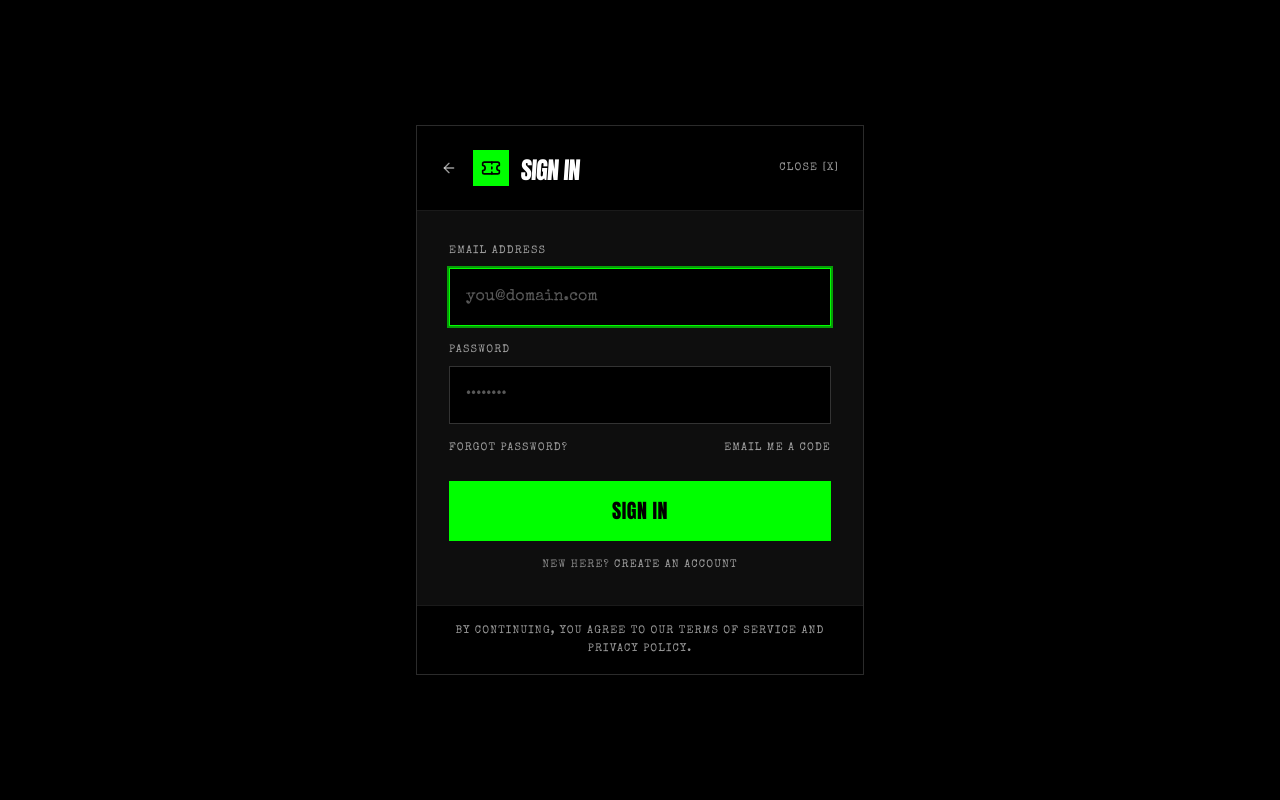
Test: AuthModal: sign in › offers to resend the confirmation when the email is unconfirmed
Type "fan@example.com" into the field labelled "Email Address".
click(640, 297); type("fan@example.com")  # box top-left (449, 268), bottom-right (831, 326)
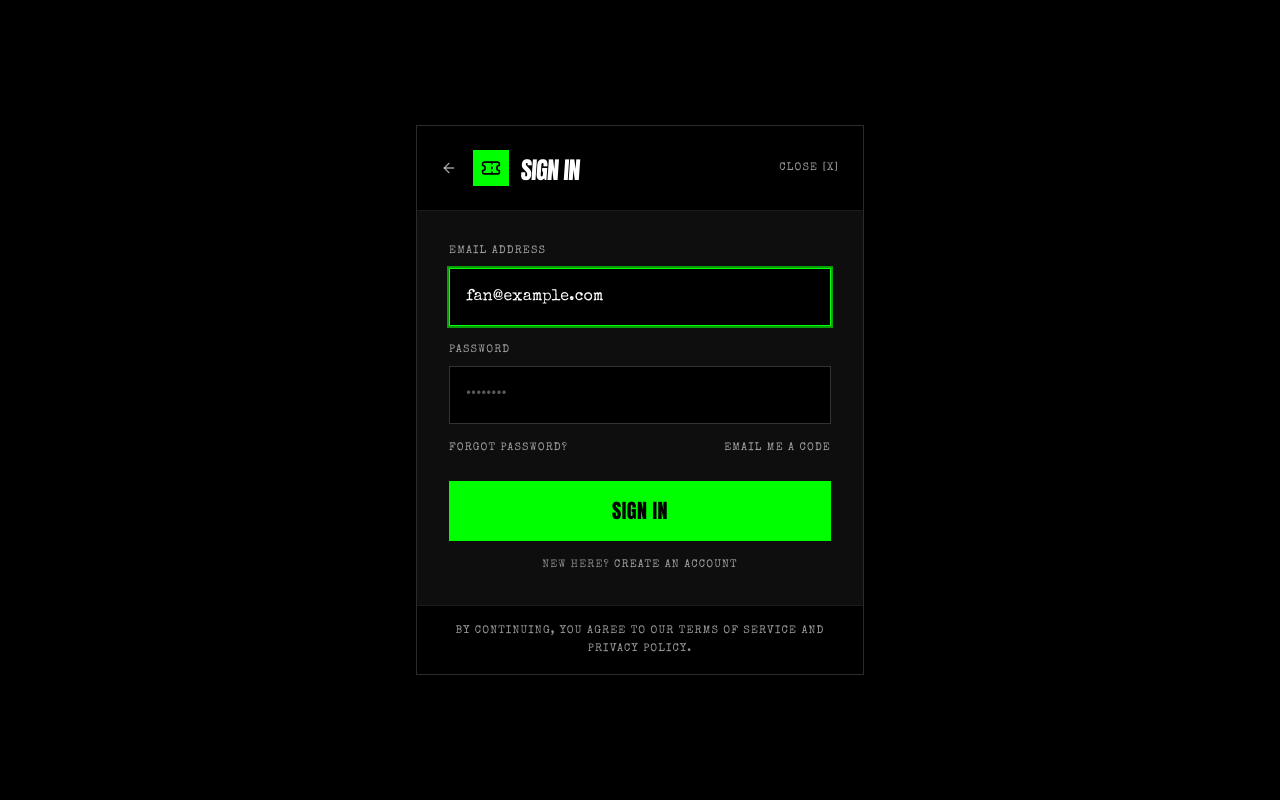
Type "whatever1" into the password field labelled "Password".
click(640, 395); type("whatever1")  # box top-left (449, 366), bottom-right (831, 424)
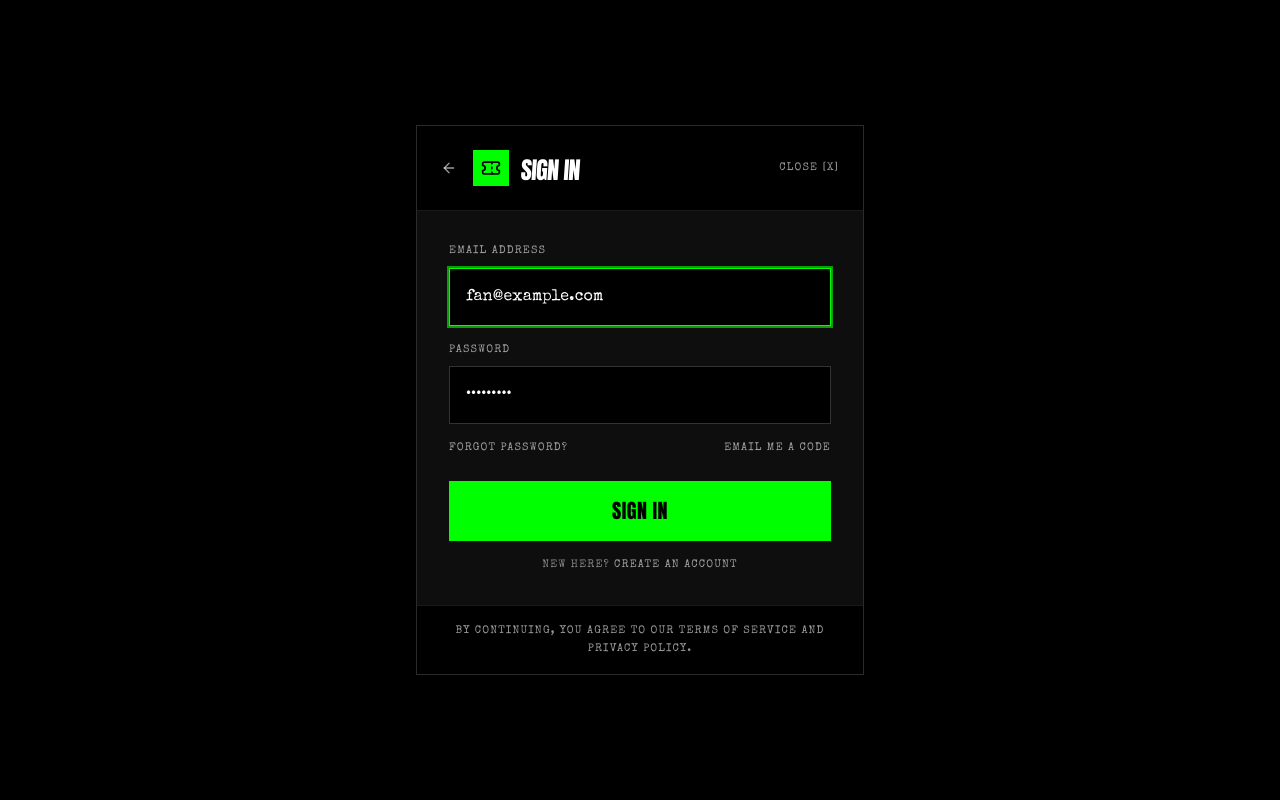
Click the button "Sign In".
click(640, 511)  # box top-left (449, 481), bottom-right (831, 541)
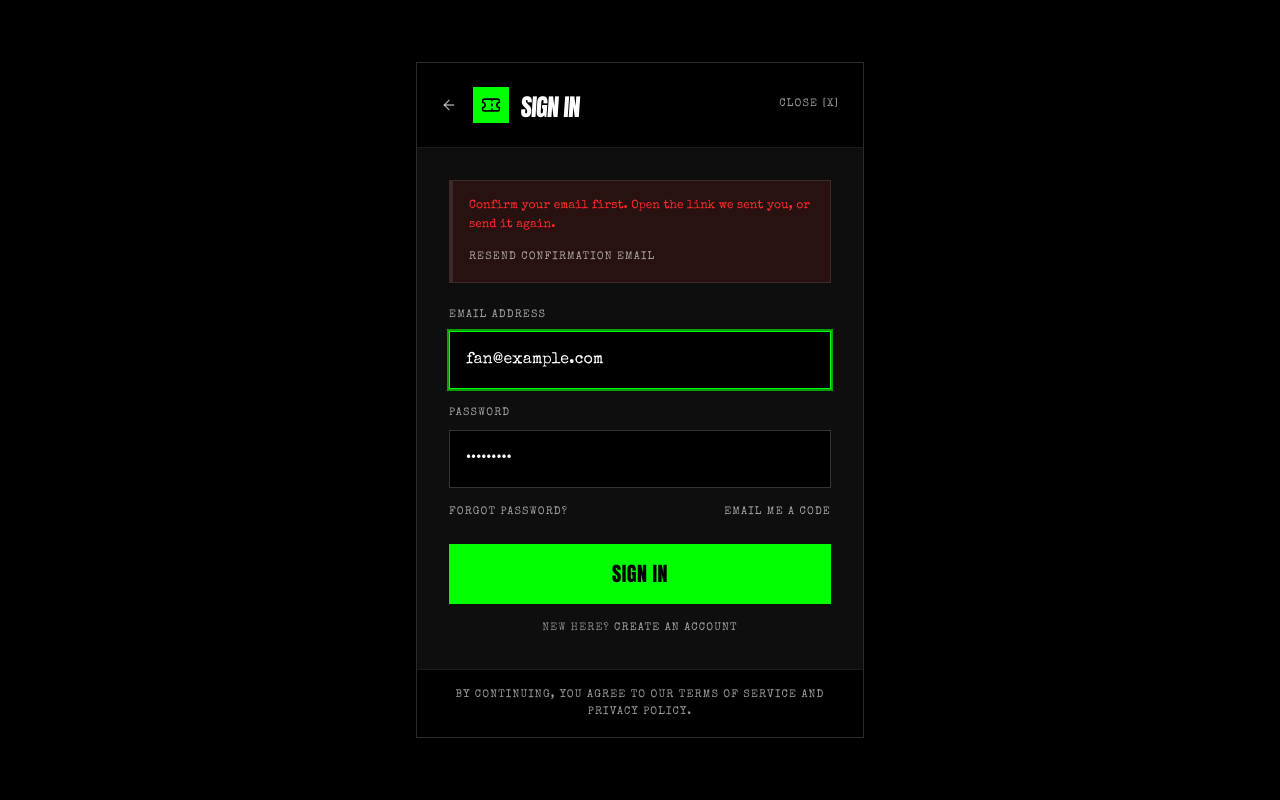
Click the button "Resend confirmation email".
click(562, 257)  # box top-left (469, 248), bottom-right (655, 266)
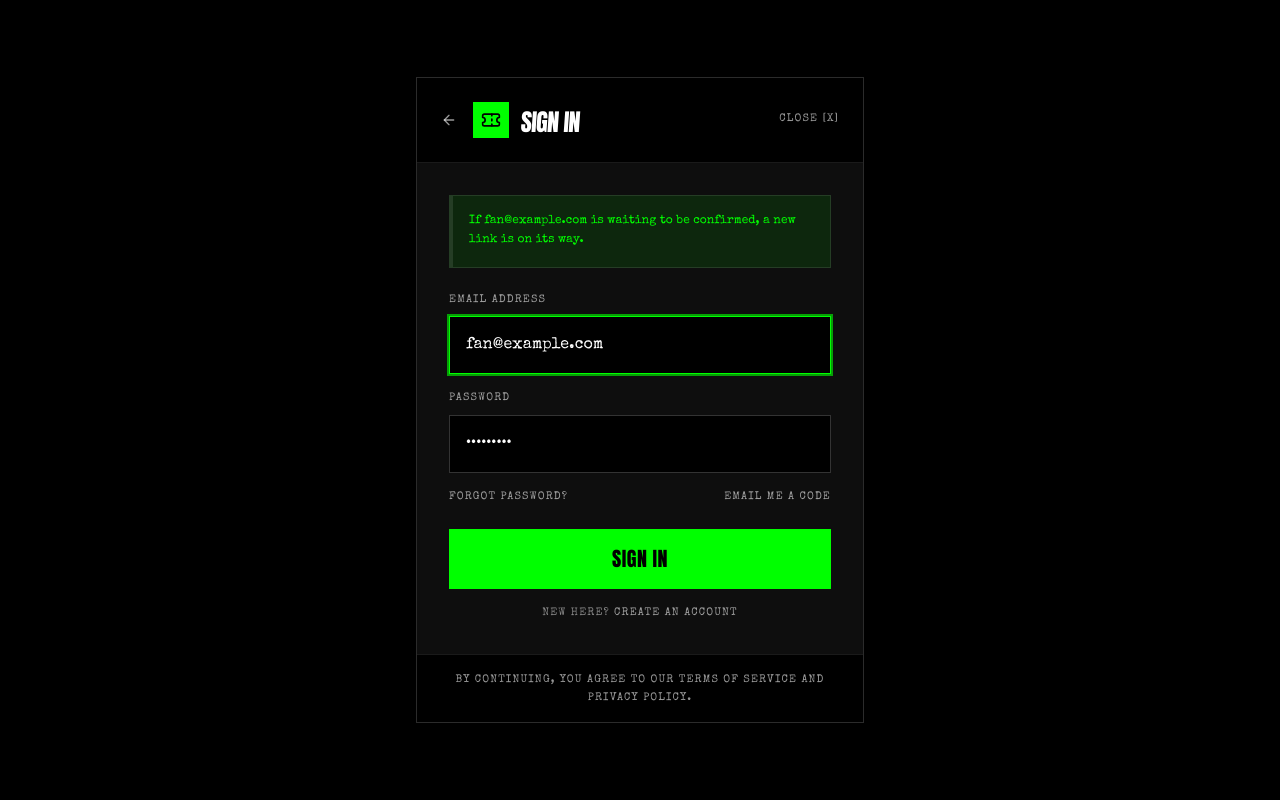
Expected: the message shows "new link", top-left (469, 215), bottom-right (796, 246)
